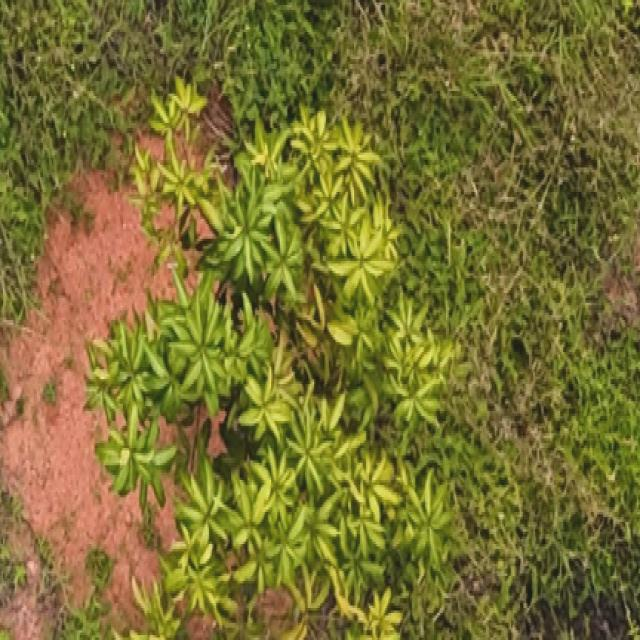mangoTree: (83, 69, 468, 640)
